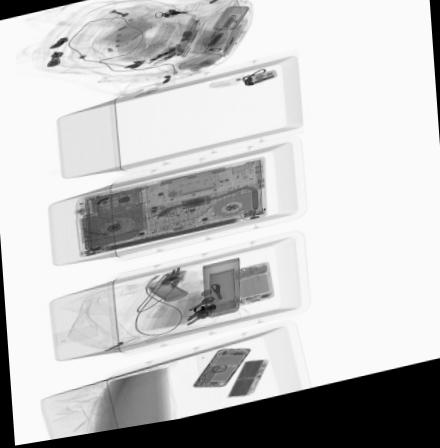Powerbank: (225, 368, 271, 405)
